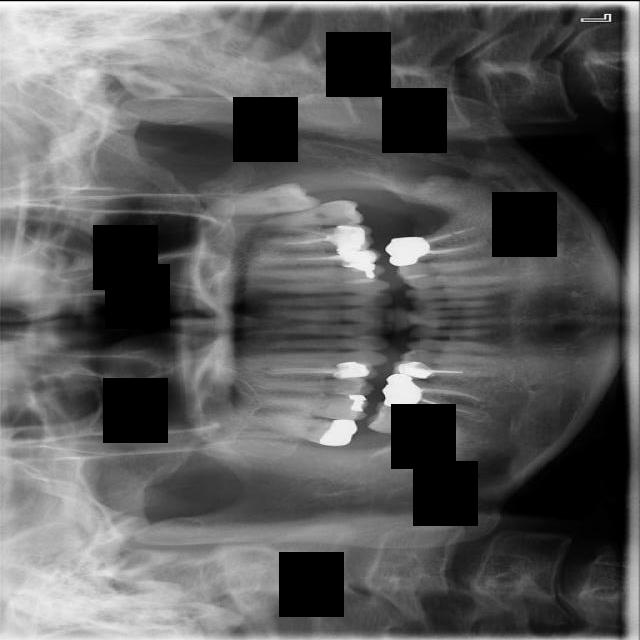52: (384, 232, 429, 268), (325, 389, 369, 423), (311, 415, 358, 446), (382, 373, 423, 407), (334, 222, 371, 252), (341, 261, 386, 284), (334, 360, 378, 380), (392, 359, 433, 380), (340, 247, 381, 268)
73: (417, 377, 495, 423), (421, 221, 488, 263), (418, 361, 499, 383), (263, 225, 338, 248), (249, 252, 342, 266), (261, 364, 337, 377), (560, 40, 580, 46)
BioHorizons Implant: (261, 199, 364, 227)
BioLife Implant: (212, 177, 324, 221)
Caries: (243, 408, 357, 447)
Implant: (365, 398, 468, 441)
